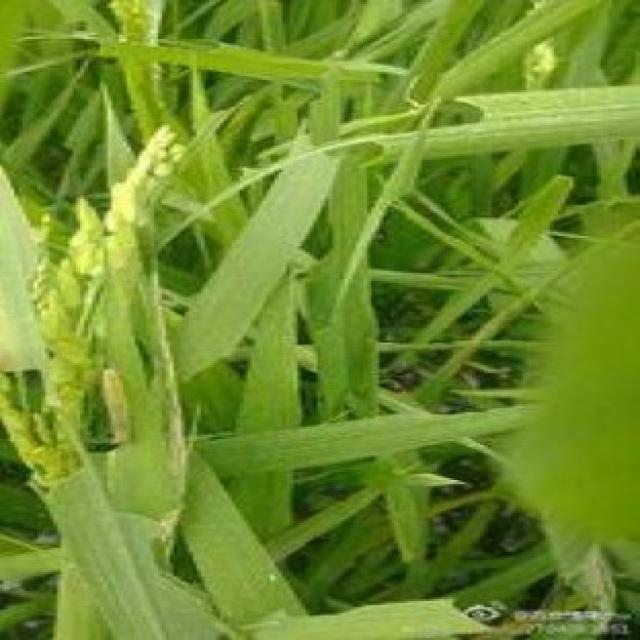rice leaf roller: (103, 369, 129, 443)
